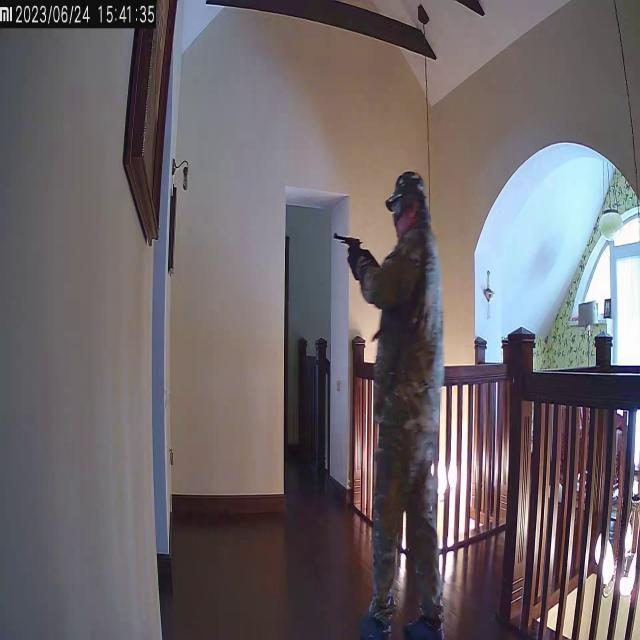pistol: (333, 230, 362, 264)
